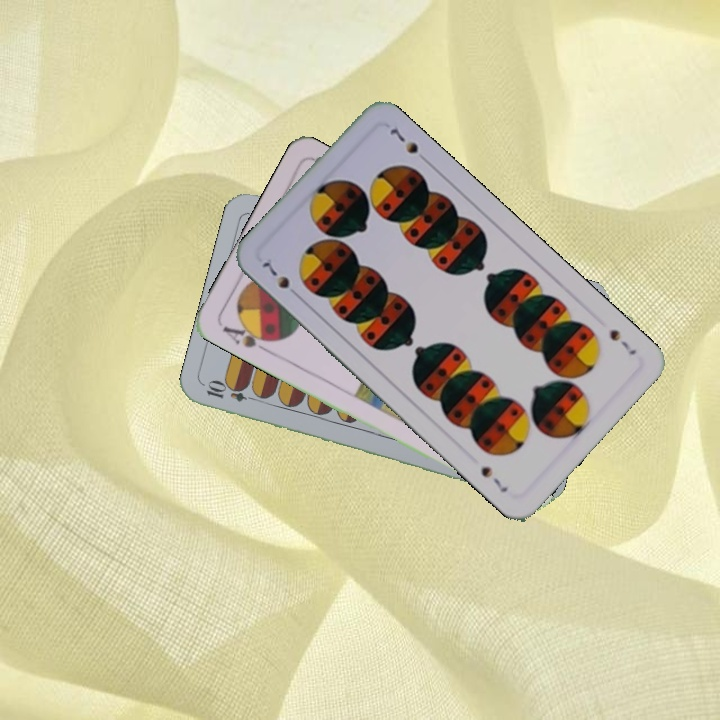E10: (202, 379, 261, 405)
S7: (258, 257, 303, 301), (605, 325, 639, 358)
SA: (218, 317, 277, 356)
